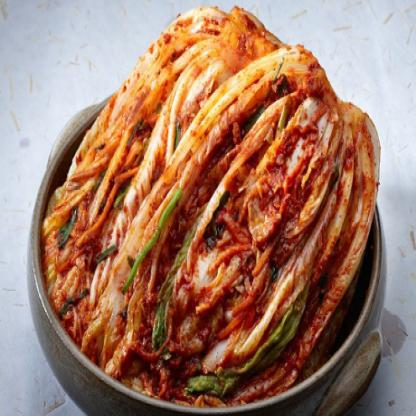kimchi: (98, 42, 389, 402), (41, 6, 312, 308)
